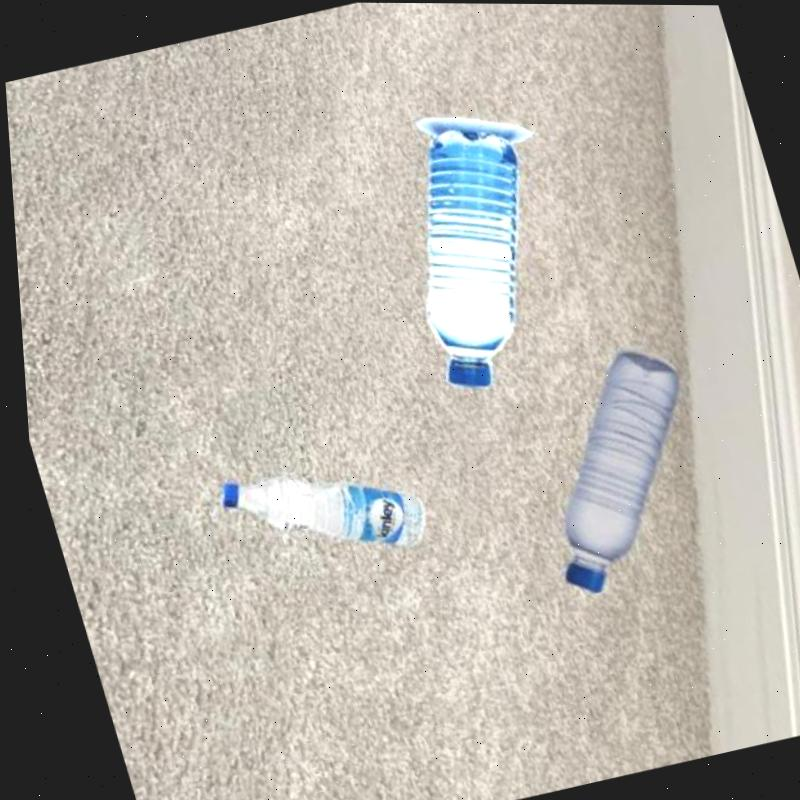botella: (496, 342, 728, 599), (367, 113, 578, 395), (201, 440, 427, 582)
